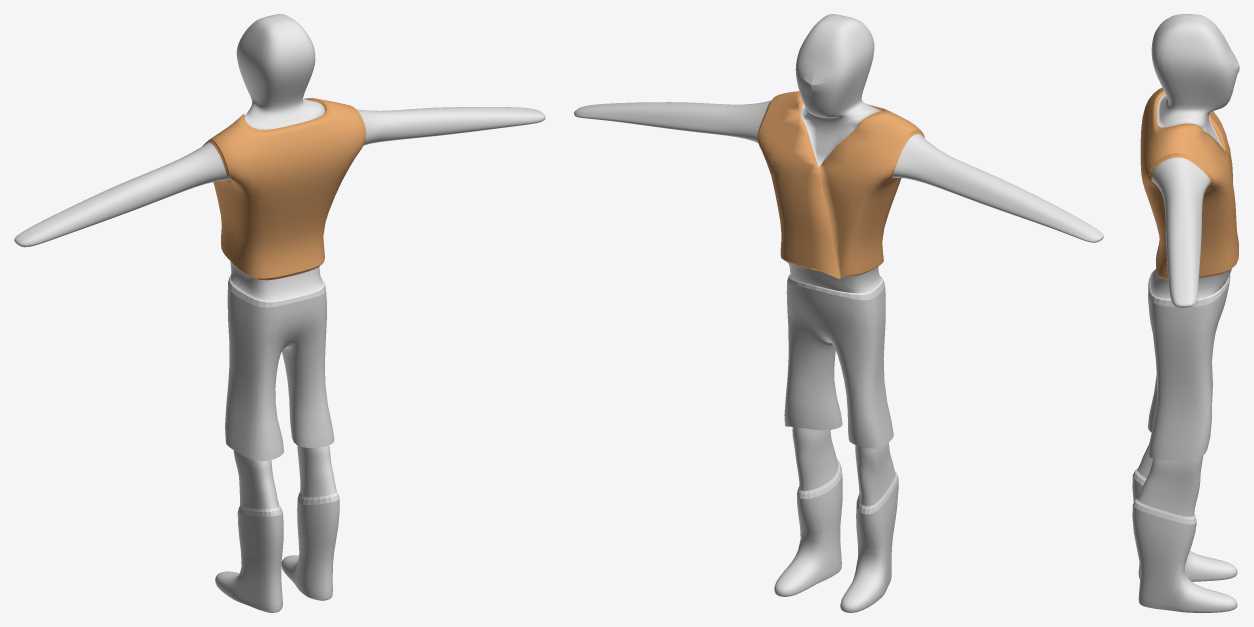
Rendered from NPC.fbx.
3 views of the same model, side by side, from view 1: azimuth 30°, elevation 25°; view 2: azimuth 150°, elevation 25°; view 3: azimuth 270°, elevation 25° (orthographic).
Parts seen in each view (by area): view 1: NPC; view 2: NPC; view 3: NPC.
Boxes of the visible parts, left/top/right/bottom form: NPC: left=14, top=14, right=545, bottom=612; NPC: left=574, top=14, right=1103, bottom=612; NPC: left=1132, top=14, right=1239, bottom=612.
Bounding box in the file's own units: 174 × 180 × 30.56.
